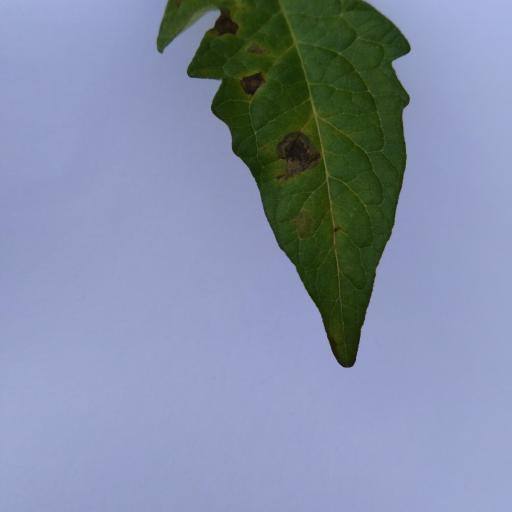disease_tomato: (186, 0, 414, 369)
